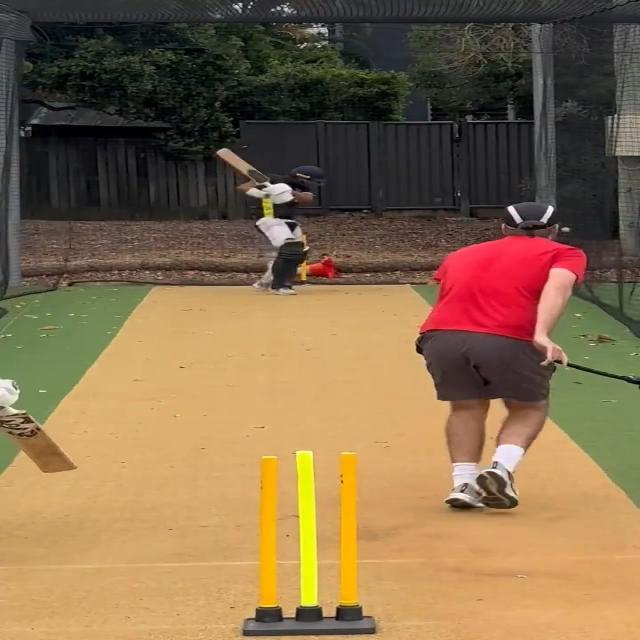stump: (242, 448, 375, 636)
